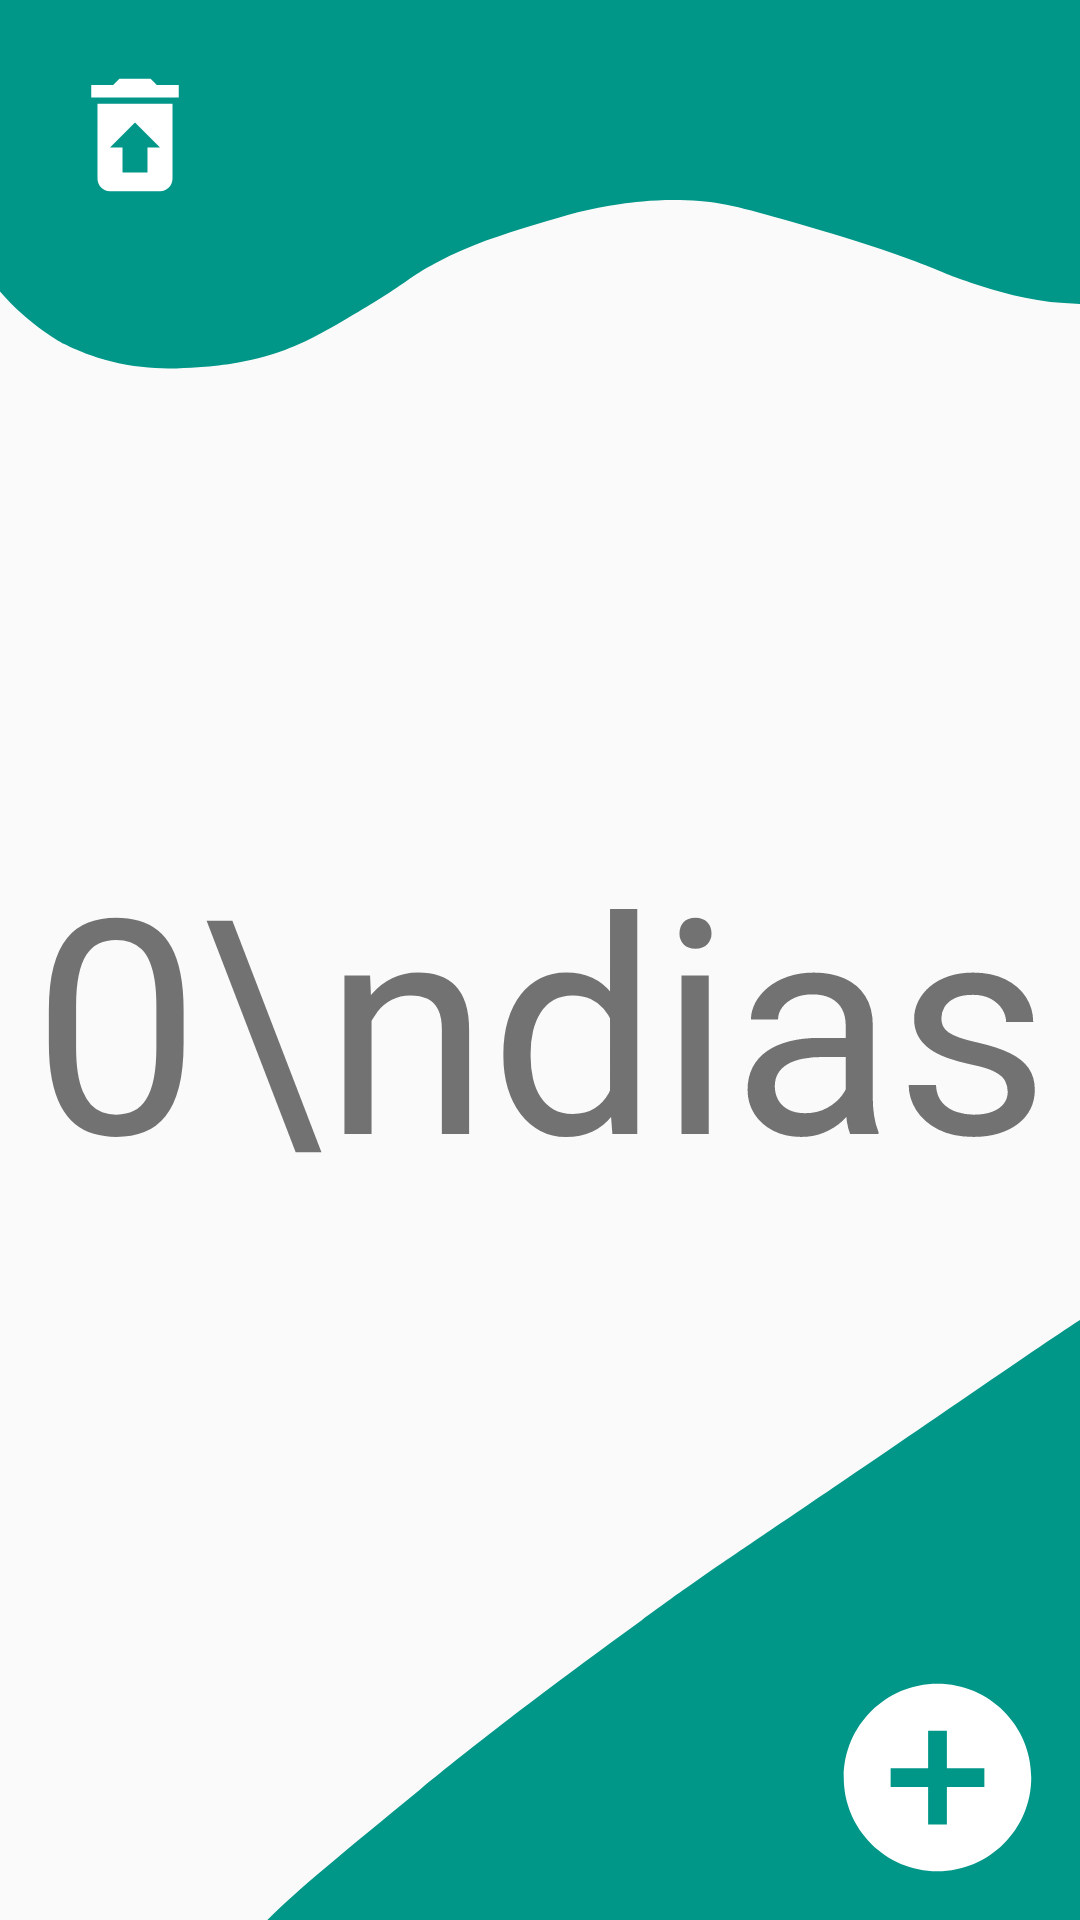

Locate icon controls on the screen. Image size 1080px×1920px, boxes as [x1,y1,x2,y2].
add: [843,1683,1032,1872]
trash: [91,78,179,192]
